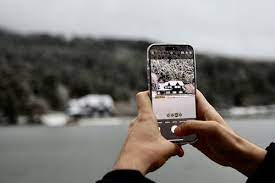Smart Phone: (143, 39, 209, 146)
